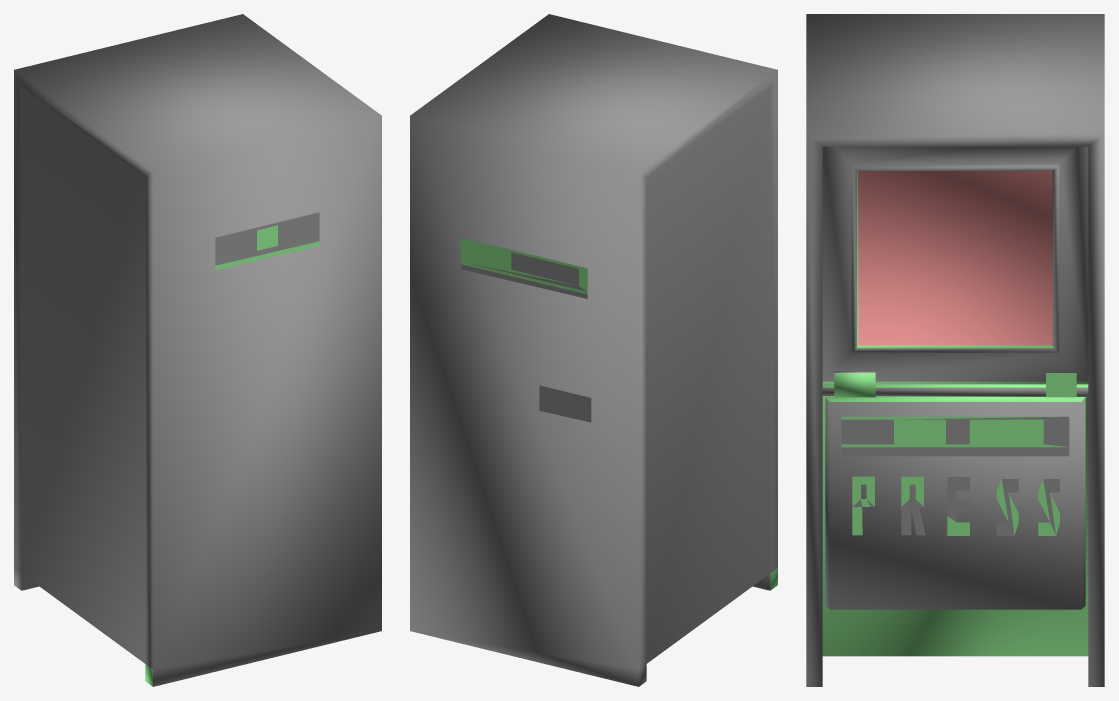
Rendered from SM_press_box_3.gltf.
3 views of the same model, side by side, from view 1: azimuth 30°, elevation 25°; view 2: azimuth 150°, elevation 25°; view 3: azimuth 270°, elevation 25° (orthographic). The views are drawn at different scales.
Parts seen in each view (by area): view 1: SM_press_box_3; view 2: SM_press_box_3; view 3: SM_press_box_3.
Part boxes in pixels (x1,y1,x2,y2): SM_press_box_3: (14,14,381,686); SM_press_box_3: (410,14,777,686); SM_press_box_3: (806,14,1104,686).
Bounding box in the file's own units: 0.6565 × 1.41 × 0.6908.
